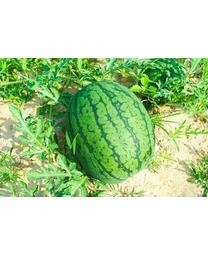watermelon: (67, 78, 157, 185)
